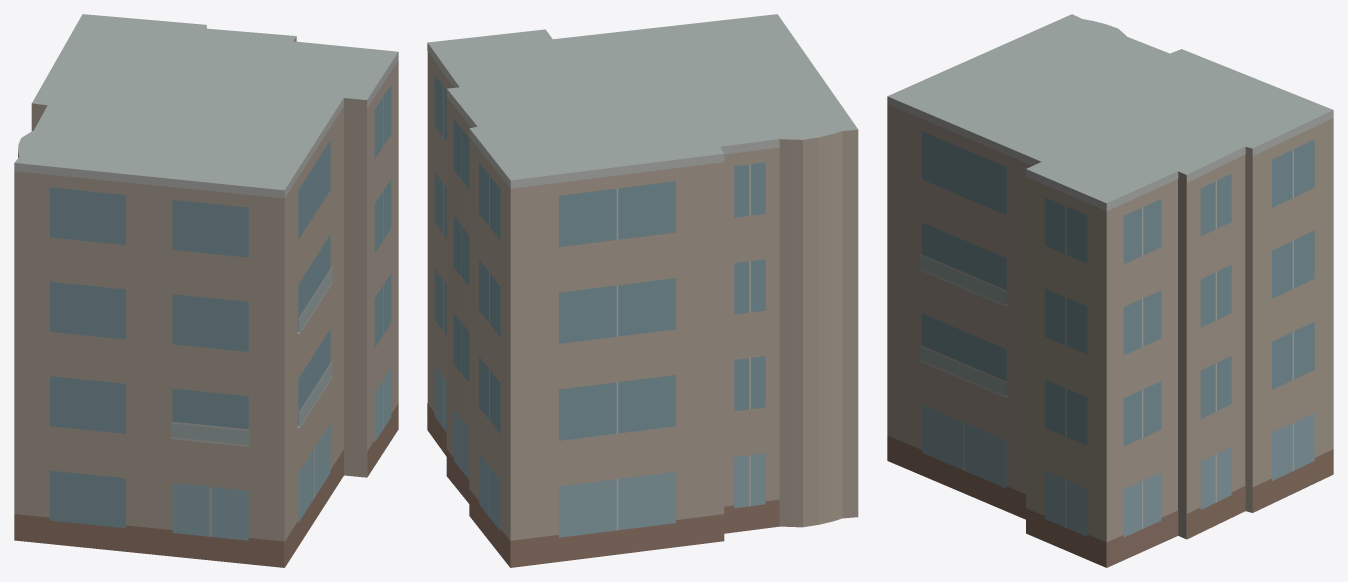
File: survey-upis-32469543.glb
3 views of the same model, side by side, from view 1: azimuth 30°, elevation 25°; view 2: azimuth 150°, elevation 25°; view 3: azimuth 270°, elevation 25° (orthographic). The views are drawn at different scales.
Visible parts, largest first — view 1: survey-upis-32469543.tmp; view 2: survey-upis-32469543.tmp; view 3: survey-upis-32469543.tmp.
Part boxes in pixels (x1,y1,x2,y2): survey-upis-32469543.tmp: (14,14,398,567); survey-upis-32469543.tmp: (427,14,858,567); survey-upis-32469543.tmp: (887,14,1333,567).
Size of the model in its own units: 12.6 by 11.3 by 12.55.
